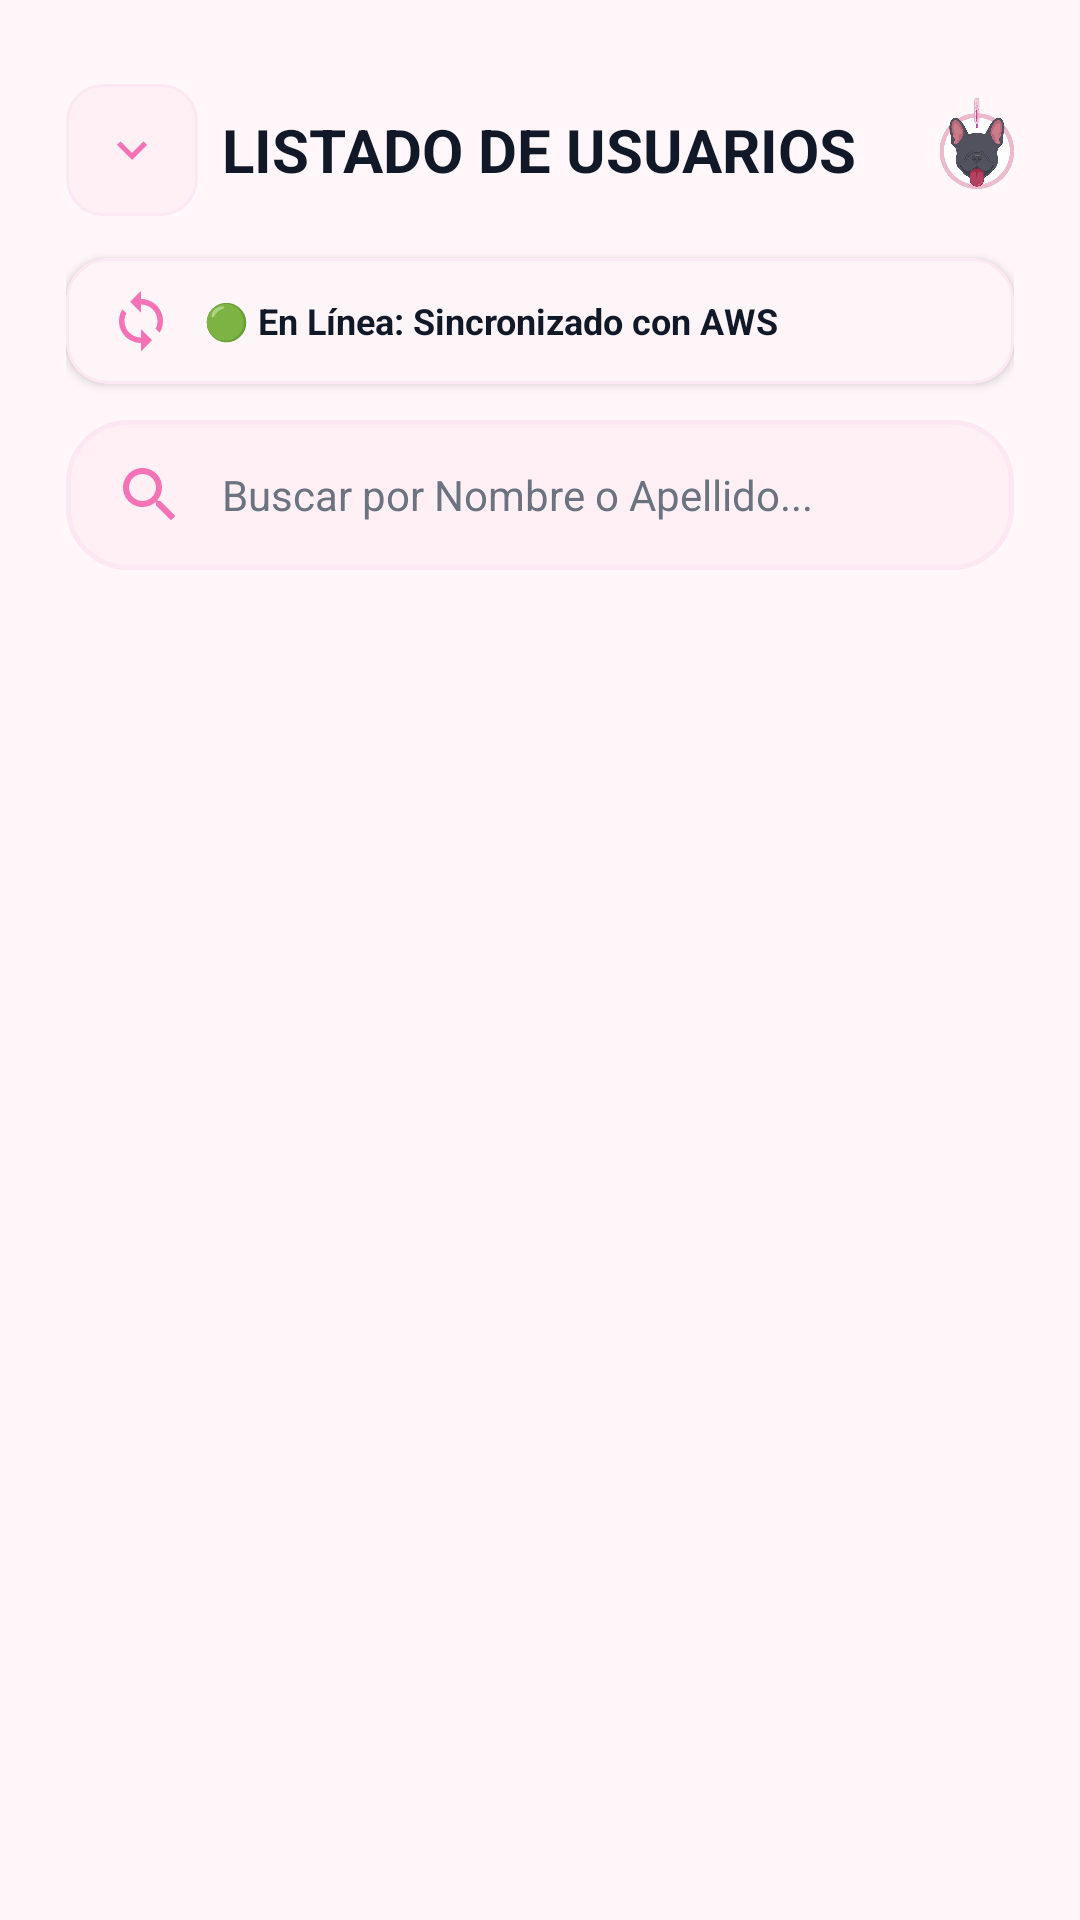

Icon click points for this 1080×1920 phone screenshot, format (x=x, y=y):
expand more: (x=132, y=150)
search: (x=149, y=494)
sync: (x=141, y=321)
